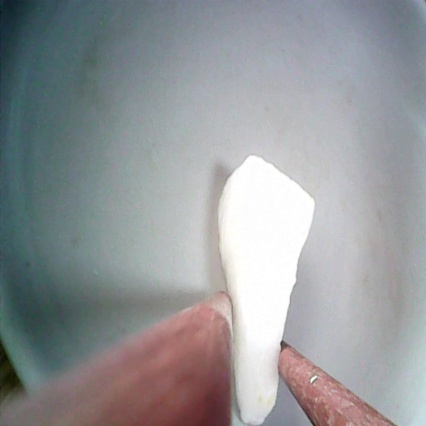white_chinese-yam: (209, 151, 320, 426)
